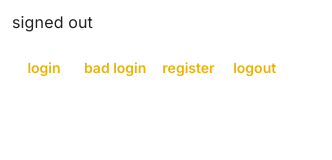
Test: AuthContext › falls back to a generic message when the API sends none
The width and height of the screenshot is (332, 160).
Click the button "login" at [44, 68], box [12,50,76,86]
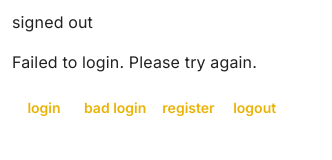
Now the text with test id "error" reads "Failed to login. Please try again.", box [12,52,257,72]
